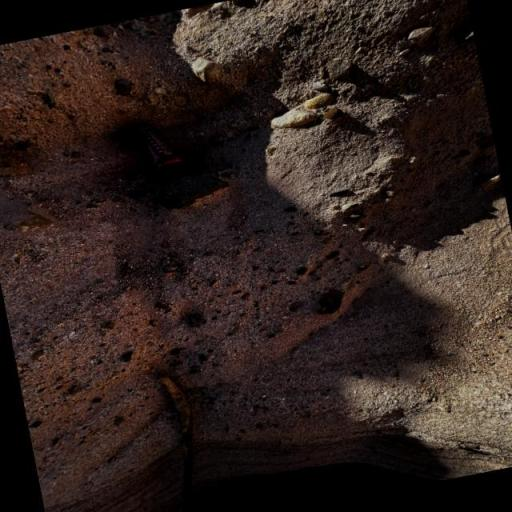bottle: (108, 114, 194, 192)
